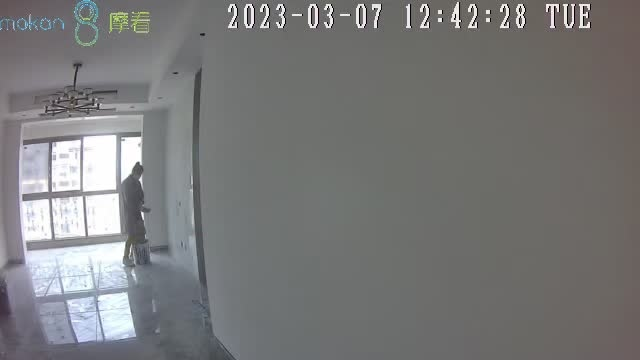people: (121, 161, 146, 266)
window: (22, 132, 146, 239)
